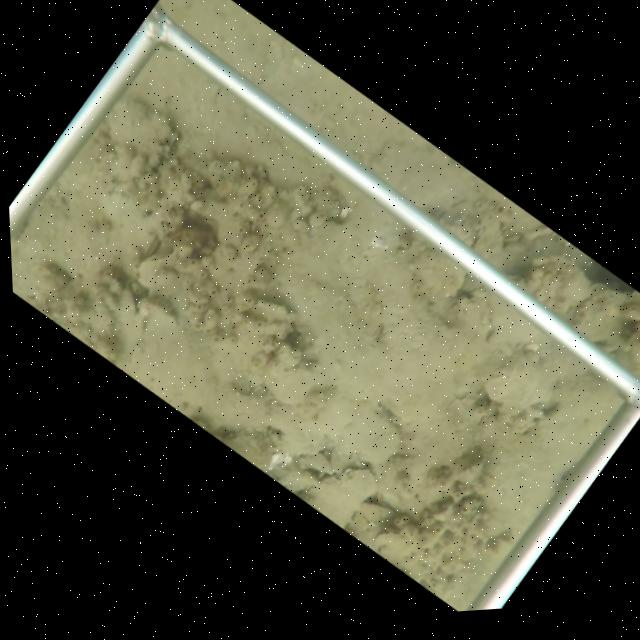Oyster-Closed: (298, 466, 379, 529), (137, 255, 172, 297)
Oyster-Indeterminate: (316, 388, 404, 467), (105, 96, 182, 185), (484, 353, 557, 408), (409, 249, 467, 304), (373, 527, 414, 562)
